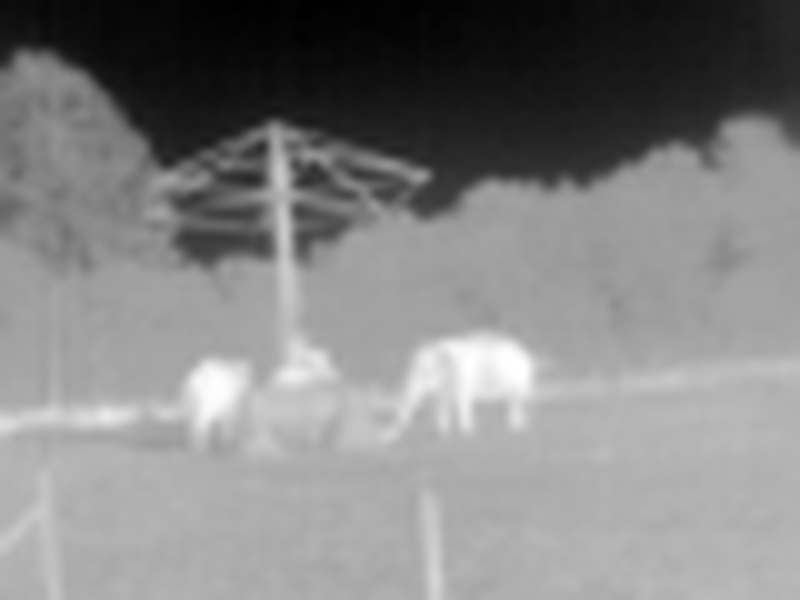elephant: (409, 348, 534, 428), (166, 338, 254, 447)
